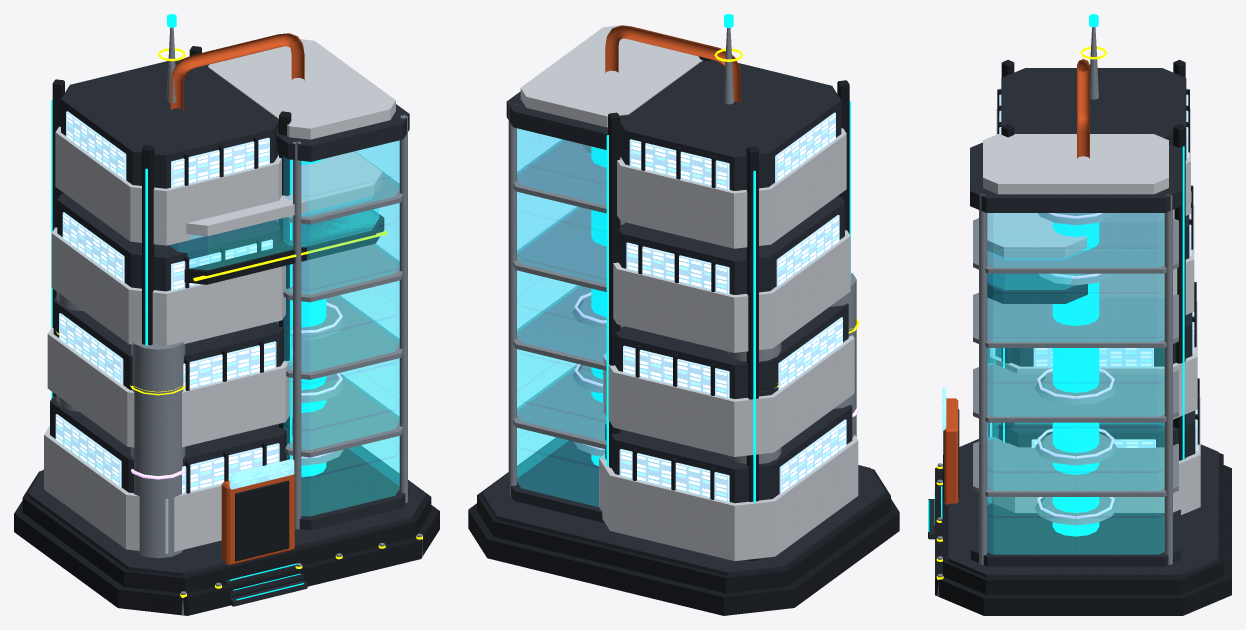
Rendered from bldg_19_r1_05.glb.
The picture shows the model from 3 angles, left to right: view 1: azimuth 30°, elevation 25°; view 2: azimuth 150°, elevation 25°; view 3: azimuth 270°, elevation 25°; orthographic projection. The views are drawn at different scales.
Visible parts, largest first — view 1: Bldg19_C05_aero_white, Bldg19_C05_carbon_slate, Bldg19_C05_glass_cyan, Bldg19_C05_steel_machined, Bldg19_C05_gunmetal, Bldg19_C05_window_lit, Bldg19_C05_accent_orange, Bldg19_C05_led_cyan, Bldg19_C05_led_amber, Bldg19_C05_marquee, Bldg19_C05_led_uv; view 2: Bldg19_C05_aero_white, Bldg19_C05_carbon_slate, Bldg19_C05_glass_cyan, Bldg19_C05_gunmetal, Bldg19_C05_steel_machined, Bldg19_C05_window_lit, Bldg19_C05_led_cyan, Bldg19_C05_accent_orange; view 3: Bldg19_C05_glass_cyan, Bldg19_C05_steel_machined, Bldg19_C05_carbon_slate, Bldg19_C05_aero_white, Bldg19_C05_gunmetal, Bldg19_C05_led_cyan, Bldg19_C05_accent_orange, Bldg19_C05_window_lit, Bldg19_C05_led_uv.
Boxes of the visible parts, x1,y1,x2,y2 form: Bldg19_C05_aero_white: (44,39,395,553); Bldg19_C05_carbon_slate: (27,59,426,606); Bldg19_C05_glass_cyan: (169,140,399,516); Bldg19_C05_steel_machined: (56,27,422,615); Bldg19_C05_gunmetal: (14,46,439,615); Bldg19_C05_window_lit: (55,111,279,493); Bldg19_C05_accent_orange: (170,33,304,565); Bldg19_C05_led_cyan: (51,14,326,600); Bldg19_C05_led_amber: (56,48,422,597); Bldg19_C05_marquee: (229,459,294,489); Bldg19_C05_led_uv: (131,302,342,479); Bldg19_C05_aero_white: (520,25,858,561); Bldg19_C05_carbon_slate: (482,59,885,575); Bldg19_C05_glass_cyan: (517,128,606,506); Bldg19_C05_gunmetal: (468,56,899,615); Bldg19_C05_steel_machined: (508,28,856,495); Bldg19_C05_window_lit: (619,112,846,502); Bldg19_C05_led_cyan: (591,14,850,502); Bldg19_C05_accent_orange: (605,25,740,103); Bldg19_C05_glass_cyan: (987,213,1164,554); Bldg19_C05_steel_machined: (937,27,1178,596); Bldg19_C05_carbon_slate: (928,68,1218,577); Bldg19_C05_aero_white: (983,108,1200,515); Bldg19_C05_gunmetal: (935,60,1231,615); Bldg19_C05_led_cyan: (928,14,1184,536); Bldg19_C05_accent_orange: (944,59,1089,504); Bldg19_C05_window_lit: (990,87,1197,451); Bldg19_C05_led_uv: (1037,213,1114,518).
Size of the model in its own units: 12 by 18.62 by 10.23.
11 materials, 11 textured.
